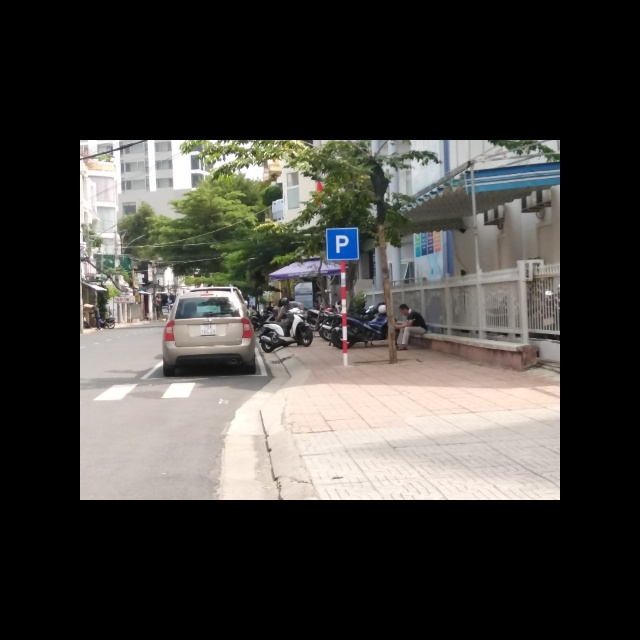Nơi đỗ xe: (325, 227, 359, 260)
